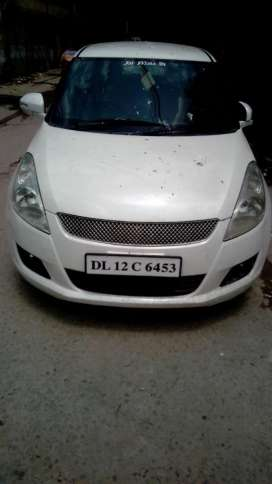license_plate: (85, 252, 186, 278)
